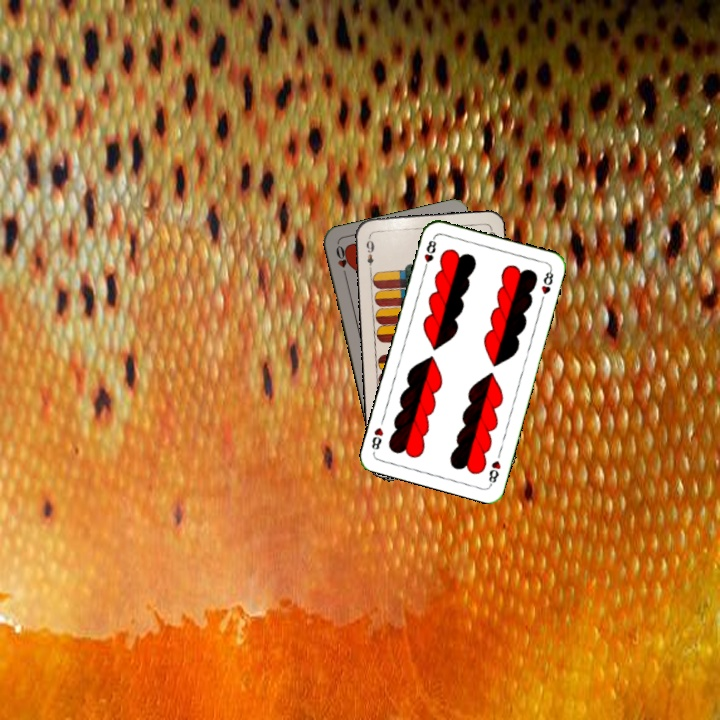E9: (362, 233, 377, 273)
H8: (420, 233, 439, 273), (485, 456, 503, 487)
HO: (332, 241, 352, 281)
